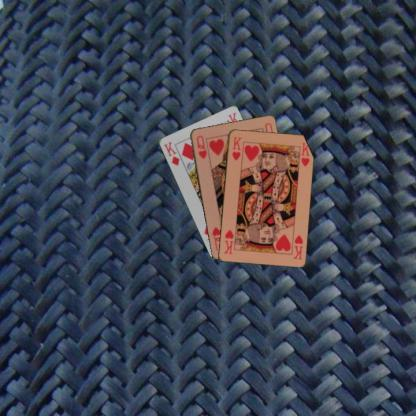Kd: (161, 139, 181, 167)
Kh: (290, 231, 304, 260), (229, 134, 243, 162)
Qh: (194, 133, 209, 160)
